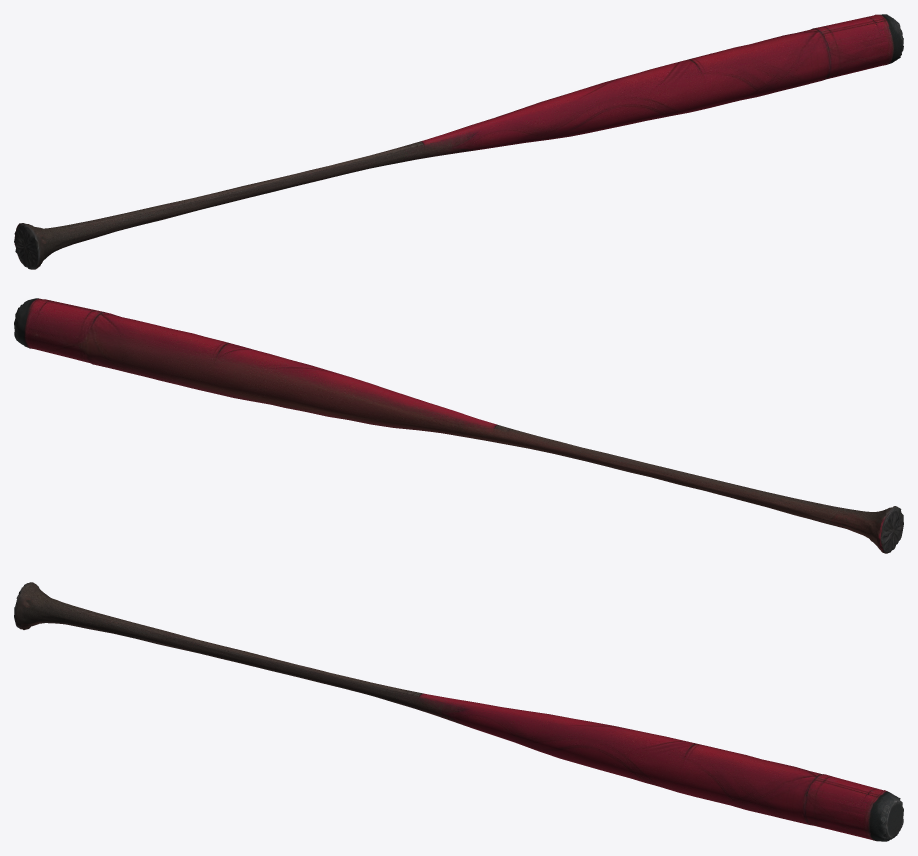
Rendered from batemaplerojo.glb.
3 renders of one model, top to bottom at view 1: azimuth 30°, elevation 25°; view 2: azimuth 150°, elevation 25°; view 3: azimuth 330°, elevation 25°, orthographic.
Bounding box in the file's own units: 1 × 0.0537 × 0.0533.
1 material, 1 textured.
